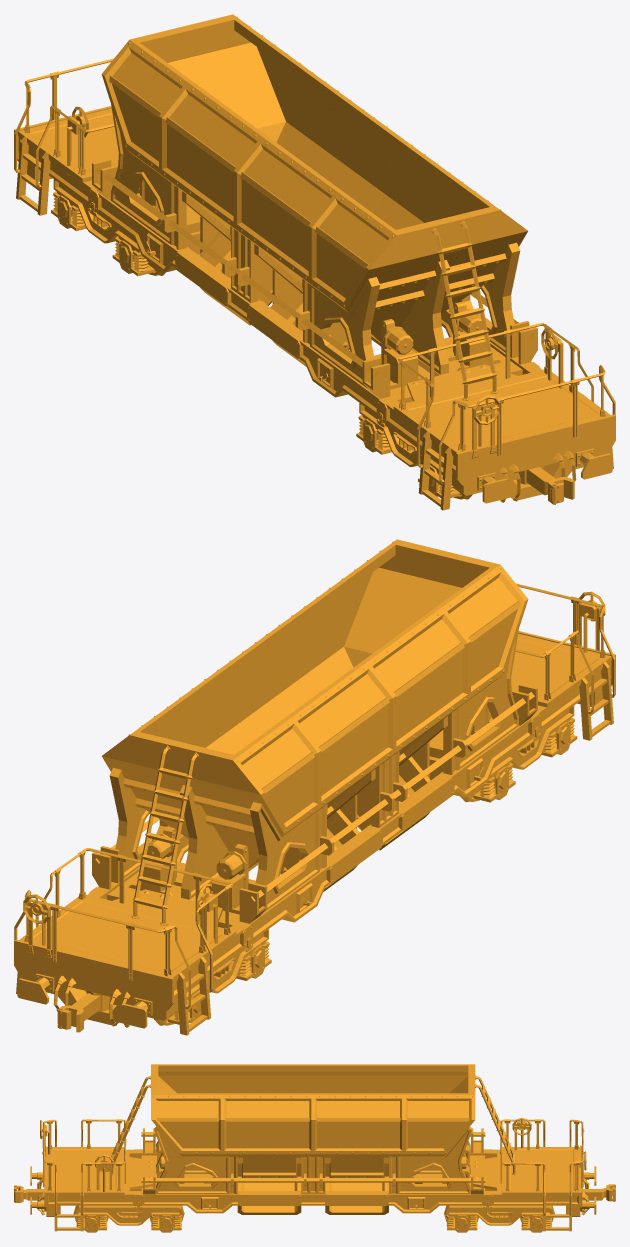
Rendered from SM_Train_Wagon_Cargo_B.fbx.
3 views of the same model, one above another, from view 1: azimuth 30°, elevation 25°; view 2: azimuth 150°, elevation 25°; view 3: azimuth 270°, elevation 25° (orthographic). The views are drawn at different scales.
Parts seen in each view (by area): view 1: SM_Train_Wagon_Cargo_B_Base, SM_Train_Wagon_Cargo_B_Base_Chassis_B, SM_Train_Wagon_Cargo_B_Base_Chassis_F, SM_Train_Wagon_Cargo_B_Base_Joint_F; view 2: SM_Train_Wagon_Cargo_B_Base, SM_Train_Wagon_Cargo_B_Base_Chassis_F, SM_Train_Wagon_Cargo_B_Base_Chassis_B, SM_Train_Wagon_Cargo_B_Base_Joint_B; view 3: SM_Train_Wagon_Cargo_B_Base, SM_Train_Wagon_Cargo_B_Base_Chassis_F, SM_Train_Wagon_Cargo_B_Base_Chassis_B, SM_Train_Wagon_Cargo_B_Base_Joint_B, SM_Train_Wagon_Cargo_B_Base_Joint_F.
Part boxes in pixels (x1,y1,x2,y2): SM_Train_Wagon_Cargo_B_Base: [14, 14, 615, 510]; SM_Train_Wagon_Cargo_B_Base_Chassis_B: [51, 179, 200, 276]; SM_Train_Wagon_Cargo_B_Base_Chassis_F: [356, 403, 460, 497]; SM_Train_Wagon_Cargo_B_Base_Joint_F: [516, 467, 574, 504]; SM_Train_Wagon_Cargo_B_Base: [14, 539, 615, 1035]; SM_Train_Wagon_Cargo_B_Base_Chassis_F: [429, 705, 577, 802]; SM_Train_Wagon_Cargo_B_Base_Chassis_B: [168, 929, 271, 1024]; SM_Train_Wagon_Cargo_B_Base_Joint_B: [57, 991, 110, 1032]; SM_Train_Wagon_Cargo_B_Base: [30, 1064, 596, 1231]; SM_Train_Wagon_Cargo_B_Base_Chassis_F: [76, 1205, 182, 1232]; SM_Train_Wagon_Cargo_B_Base_Chassis_B: [446, 1205, 551, 1232]; SM_Train_Wagon_Cargo_B_Base_Joint_B: [582, 1184, 615, 1201]; SM_Train_Wagon_Cargo_B_Base_Joint_F: [14, 1185, 44, 1202].
Bounding box in the file's own units: 3.31 × 4.12 × 16.11.
